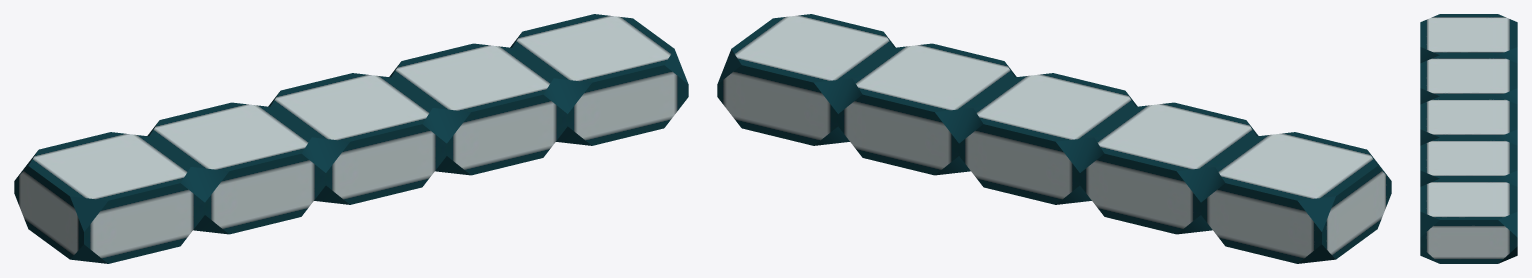
Rendered from MG-ChangJing-CeShi-BianKuai-5.FBX.
3 renders of one model, left to right at view 1: azimuth 30°, elevation 25°; view 2: azimuth 150°, elevation 25°; view 3: azimuth 270°, elevation 25°, orthographic. The views are drawn at different scales.
Parts seen in each view (by area): view 1: MG-ChangJing-CeShi-BianKuai-5; view 2: MG-ChangJing-CeShi-BianKuai-5; view 3: MG-ChangJing-CeShi-BianKuai-5.
Part boxes in pixels (box(x1,y1,x2,y2)): MG-ChangJing-CeShi-BianKuai-5: box(14, 14, 688, 263); MG-ChangJing-CeShi-BianKuai-5: box(717, 14, 1391, 263); MG-ChangJing-CeShi-BianKuai-5: box(1420, 14, 1517, 263).
Size of the model in its own units: 78.74 by 7.87 by 15.75.
